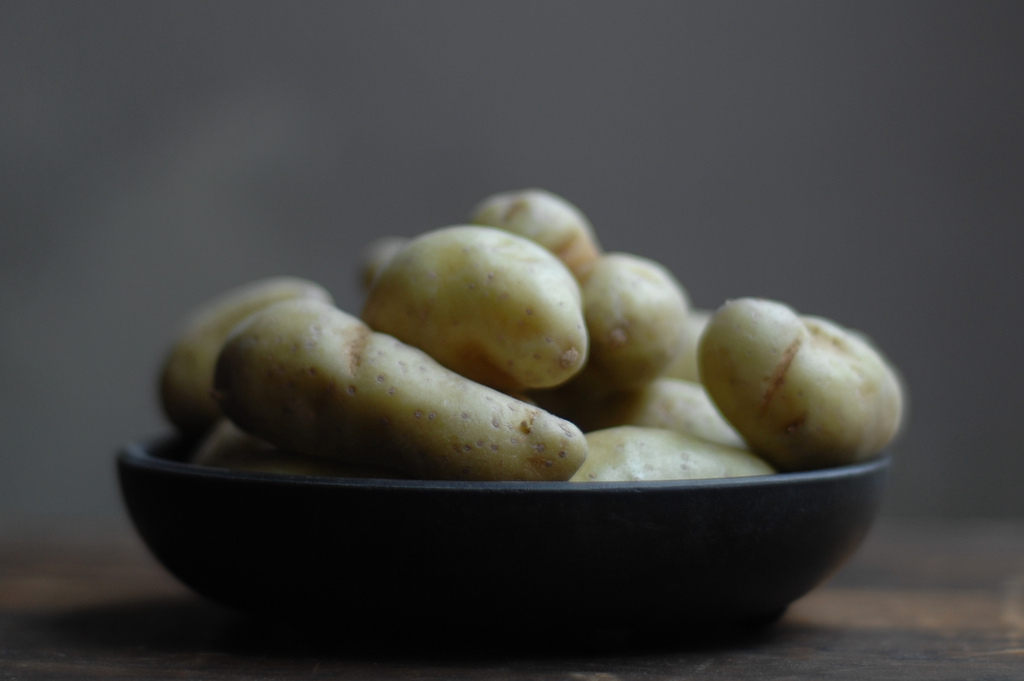boiled potatoes: (211, 295, 575, 473), (359, 227, 606, 370), (694, 287, 890, 455), (579, 409, 776, 491), (589, 248, 682, 388)
